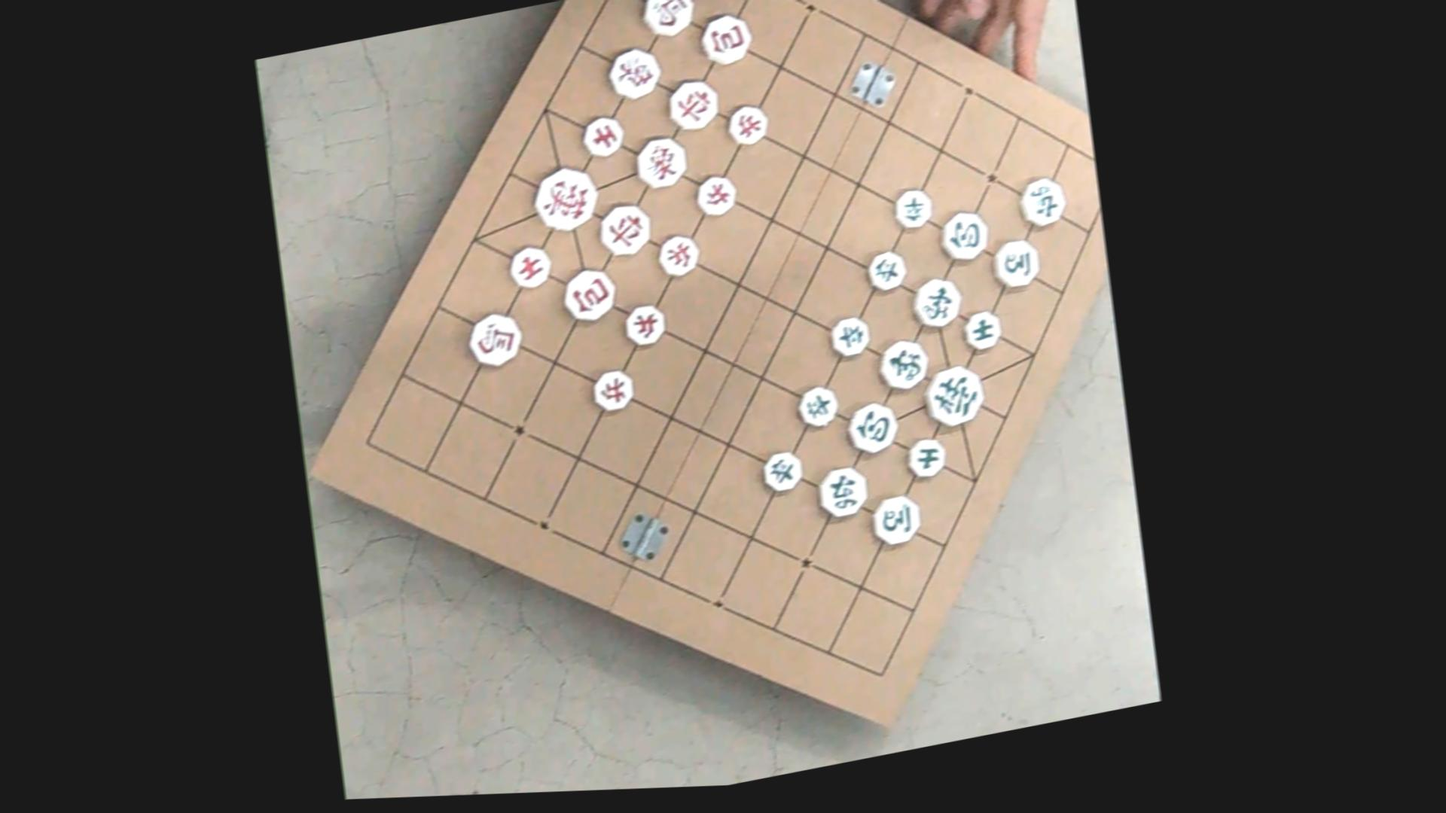cha_green: (813, 463, 871, 520), (1016, 174, 1069, 228)
cha_red: (595, 199, 655, 257), (664, 75, 722, 131)
jol_green: (826, 312, 873, 358), (795, 383, 841, 428), (759, 448, 805, 493), (891, 185, 935, 230), (865, 247, 909, 291)
jol_red: (589, 365, 637, 413), (692, 170, 740, 218), (655, 231, 703, 278), (621, 300, 668, 346), (725, 100, 771, 146)
ma_green: (868, 490, 925, 547), (990, 234, 1043, 289)
ma_red: (465, 307, 526, 368), (639, 0, 698, 38)
po_green: (844, 398, 903, 455), (937, 206, 992, 261)
po_red: (560, 265, 620, 324), (697, 10, 755, 66)
sa_green: (905, 434, 949, 480), (961, 307, 1005, 350)
sa_red: (506, 242, 555, 290), (580, 111, 627, 157)
sang_green: (875, 335, 932, 392), (908, 274, 965, 330)
sang_red: (604, 43, 665, 101), (633, 132, 690, 189)
wang_green: (920, 360, 989, 428)
wang_red: (529, 161, 603, 234)
